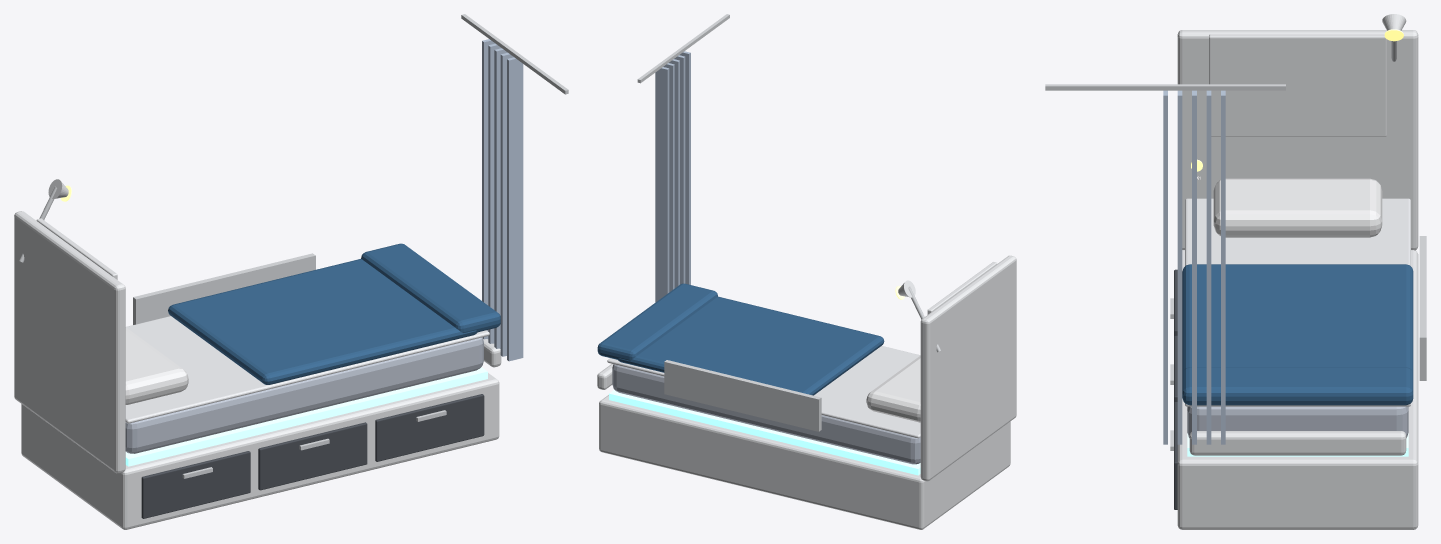
The model's file is smart_bed.glb.
3 renders of one model, left to right at view 1: azimuth 30°, elevation 25°; view 2: azimuth 150°, elevation 25°; view 3: azimuth 270°, elevation 25°, orthographic. The views are drawn at different scales.
Visible parts, largest first — view 1: Bed_Frame, Cube.019 (×5), Sleep_Sensor_Mat; view 2: Bed_Frame, Cube.019 (×5), Sleep_Sensor_Mat; view 3: Bed_Frame, Cube.019 (×5), Sleep_Sensor_Mat.
Part boxes in pixels (bbox=[...]): Bed_Frame: bbox=[14, 14, 568, 529]; Cube.019 (×5): bbox=[482, 39, 523, 361]; Sleep_Sensor_Mat: bbox=[125, 367, 487, 466]; Bed_Frame: bbox=[597, 14, 1016, 529]; Cube.019 (×5): bbox=[655, 51, 690, 302]; Sleep_Sensor_Mat: bbox=[609, 390, 920, 475]; Bed_Frame: bbox=[1045, 14, 1426, 529]; Cube.019 (×5): bbox=[1163, 90, 1225, 444]; Sleep_Sensor_Mat: bbox=[1187, 433, 1408, 456].
Bounding box in the file's own units: 2.25 × 2.07 × 1.59.
5 materials, 5 textured.
